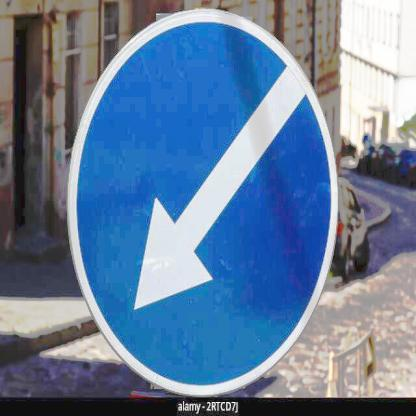Keep left: (67, 5, 340, 395)
